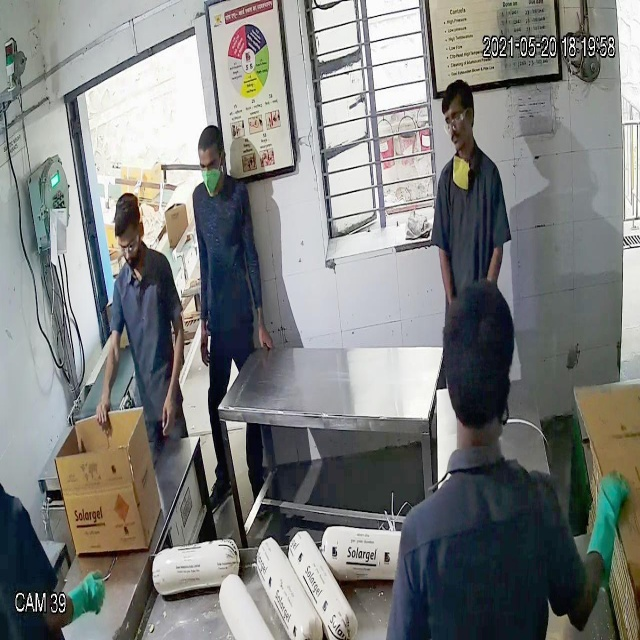Gafas: (439, 110, 470, 135), (114, 235, 141, 257)
Sin_gafas: (196, 155, 222, 175)
